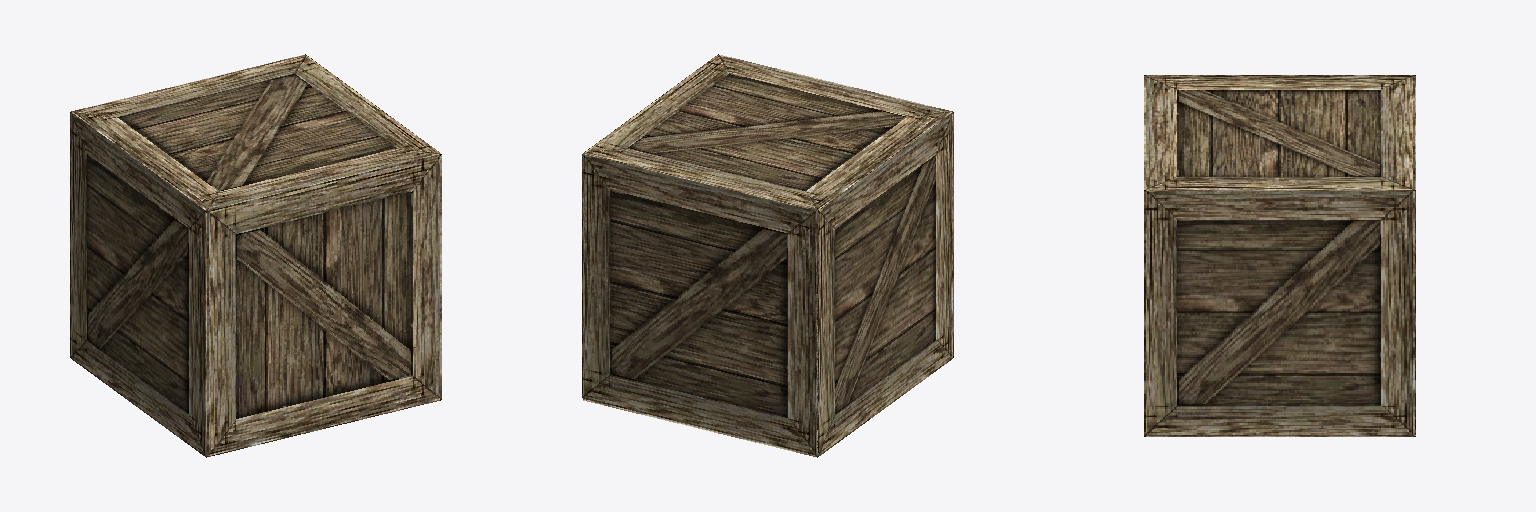
3 renders of one model, left to right at view 1: azimuth 30°, elevation 25°; view 2: azimuth 150°, elevation 25°; view 3: azimuth 270°, elevation 25°, orthographic.
Parts seen in each view (by area): view 1: Cube; view 2: Cube; view 3: Cube.
Part boxes in pixels (bbox=[...]): Cube: bbox=[70, 54, 441, 457]; Cube: bbox=[582, 54, 953, 457]; Cube: bbox=[1144, 75, 1415, 436].
Size of the model in its own units: 2 by 2 by 2.
1 materials, 1 textured.